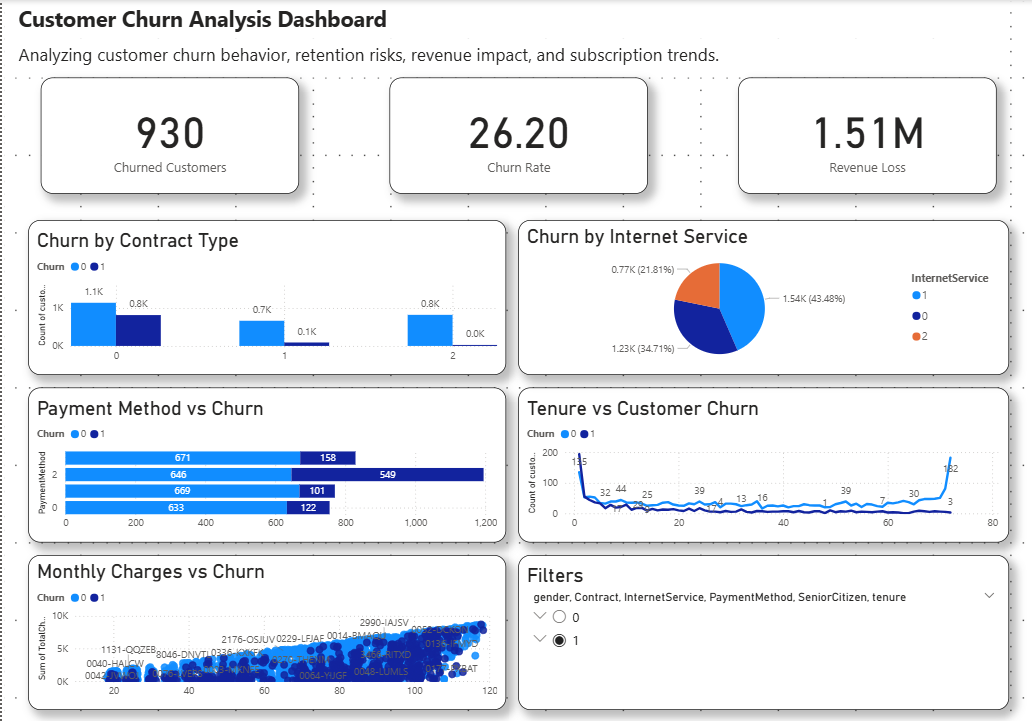

Layout of this report page (visuals, bound fields, positions):
{"tool":"powerbi","page":{"name":"Customer Churn Analysis","canvas":[1280,900],"ordinal":1},"visuals":[{"type":"textbox","box":[16,0,1232,48],"z":0},{"type":"textbox","box":[16,48,1232,48],"z":1000},{"type":"card","fields":{"Values":["clean_events.Churned Customers"]},"box":[48,96,320,144],"z":2000},{"type":"card","fields":{"Values":["clean_events.Churn Rate"]},"box":[480,96,320,144],"z":3000},{"type":"card","fields":{"Values":["clean_events.Revenue Loss"]},"box":[912,96,320,144],"z":4000},{"type":"clusteredColumnChart","title":"Churn by Contract Type","fields":{"Category":["clean_events.Contract"],"Y":["CountNonNull(clean_events.customerID)"],"Series":["clean_events.Churn"]},"box":[32,272,592,192],"z":5000},{"type":"barChart","title":"Payment Method vs Churn","fields":{"Category":["clean_events.PaymentMethod"],"Y":["CountNonNull(clean_events.customerID)"],"Series":["clean_events.Churn"]},"box":[32,480,592,192],"z":6000},{"type":"lineChart","title":"Tenure vs Customer Churn","fields":{"Category":["clean_events.tenure"],"Y":["CountNonNull(clean_events.customerID)"],"Series":["clean_events.Churn"]},"box":[640,480,608,192],"z":7000},{"type":"scatterChart","title":"Monthly Charges vs Churn","fields":{"X":["Sum(clean_events.MonthlyCharges)"],"Y":["Sum(clean_events.TotalCharges)"],"Series":["clean_events.Churn"],"Category":["clean_events.customerID"]},"box":[32,688,592,192],"z":8000},{"type":"slicer","title":"Filters","fields":{"Values":["clean_events.gender","clean_events.Contract","clean_events.InternetService","clean_events.PaymentMethod","clean_events.SeniorCitizen","clean_events.tenure"]},"box":[640,688,608,192],"z":9000},{"type":"pieChart","title":"Churn by Internet Service","fields":{"Category":["clean_events.InternetService"],"Y":["CountNonNull(clean_events.customerID)"]},"box":[640,272,608,192],"z":10000}]}

Visuals, with their boxes in screenshot pixels (x1, y1, x2, y2), scaled from the page's 1280x900 canvas onto the 1032x721 screenshot:
textbox: crop(13, 0, 1006, 38)
textbox: crop(13, 38, 1006, 77)
card - clean_events.Churned Customers: crop(39, 77, 297, 192)
card - clean_events.Churn Rate: crop(387, 77, 645, 192)
card - clean_events.Revenue Loss: crop(735, 77, 993, 192)
"Churn by Contract Type" clusteredColumnChart: crop(26, 218, 503, 372)
"Payment Method vs Churn" barChart: crop(26, 385, 503, 538)
"Tenure vs Customer Churn" lineChart: crop(516, 385, 1006, 538)
"Monthly Charges vs Churn" scatterChart: crop(26, 551, 503, 705)
"Filters" slicer: crop(516, 551, 1006, 705)
"Churn by Internet Service" pieChart: crop(516, 218, 1006, 372)
